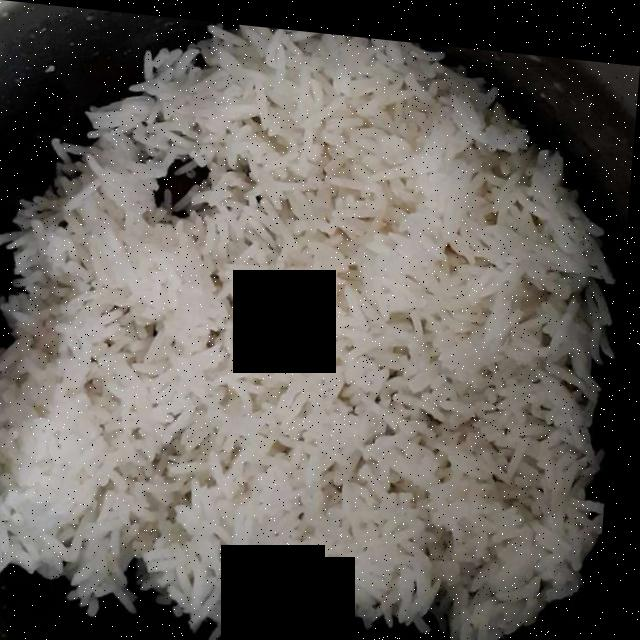rice-basmati: (0, 28, 600, 639)
